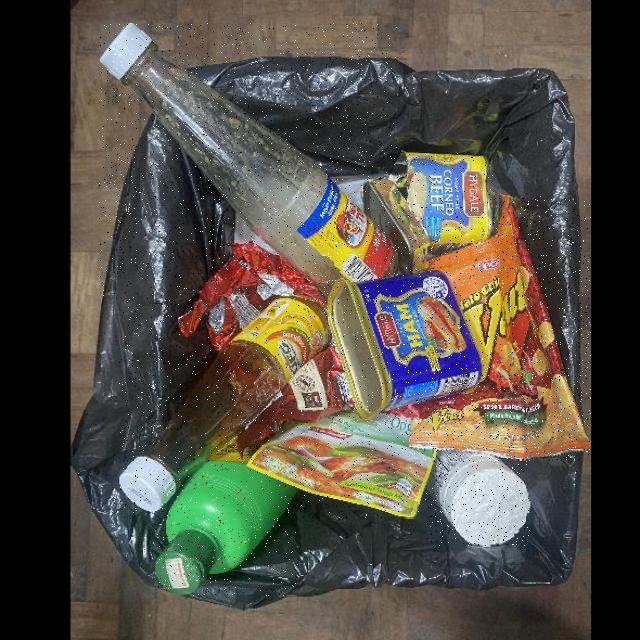glass: (100, 23, 397, 298), (120, 298, 330, 513)
metal: (327, 271, 481, 421), (364, 153, 493, 274)
plastic: (155, 437, 298, 596), (427, 451, 530, 547)
wrapper: (390, 195, 591, 460), (247, 412, 438, 518), (178, 243, 328, 352), (237, 347, 355, 459)
